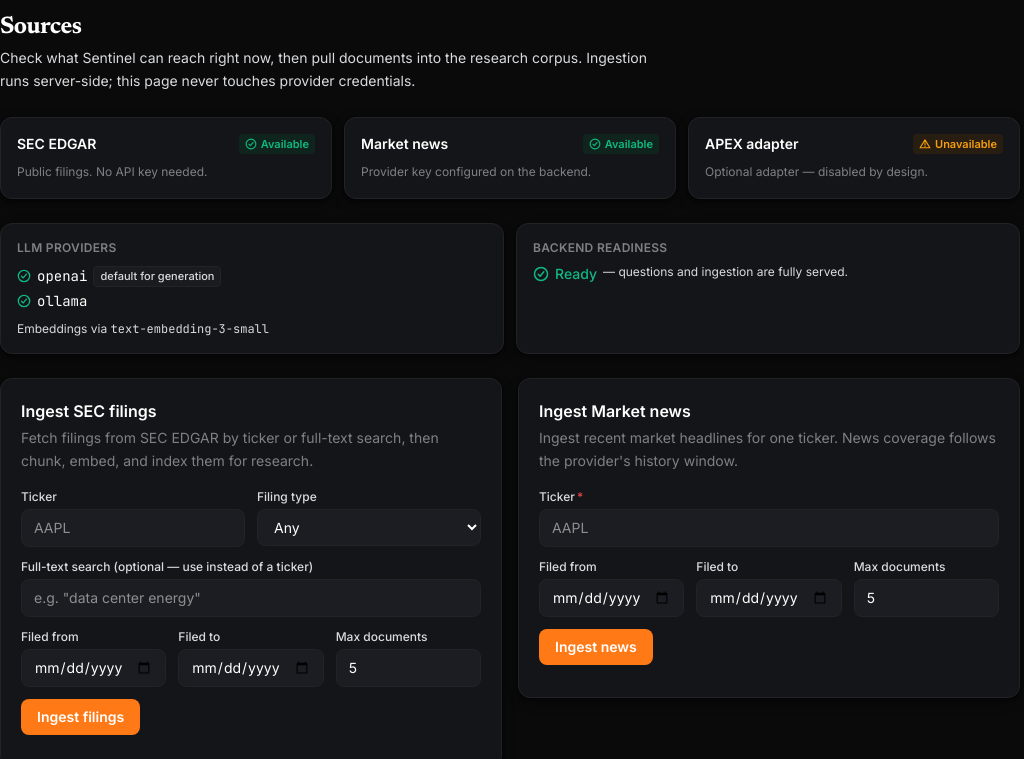
Scenario: news ingestion form › requires a ticker and posts a news-source request
Expected: the heading "Ingest Market news" is shown, top-left (539, 401), bottom-right (691, 421)
Click the button "Ingest news" at (596, 647), box top-left (539, 629), bottom-right (653, 665)
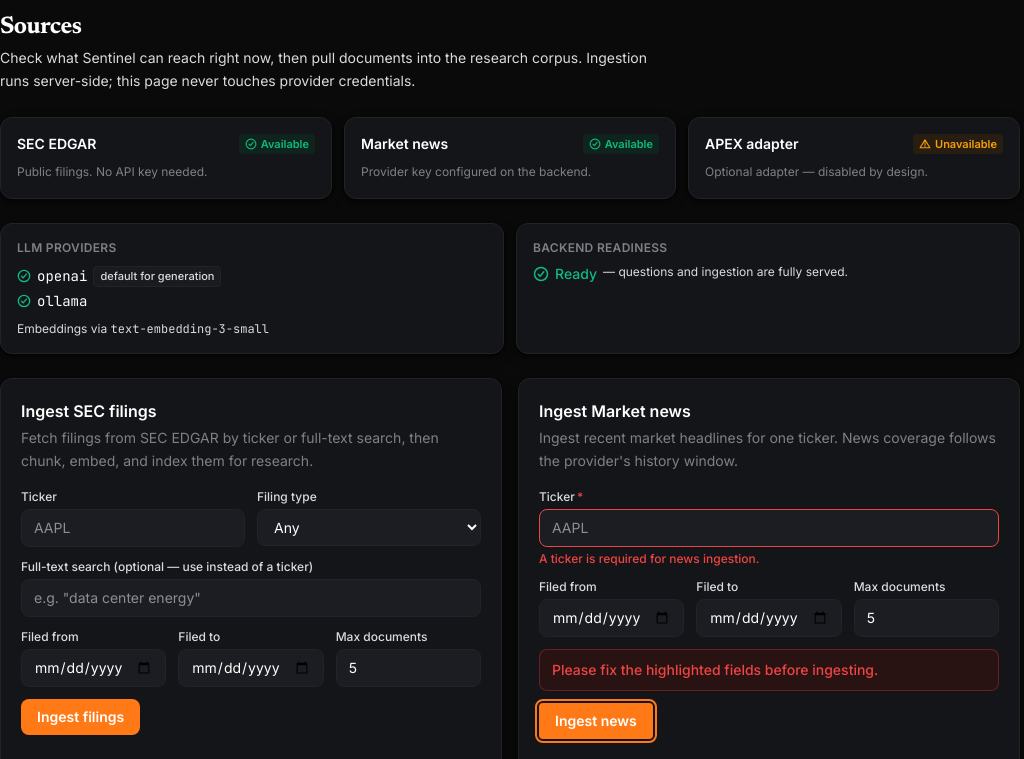
Expected: the text "A ticker is required for news ingestion." is shown, top-left (539, 551), bottom-right (759, 566)
Type "TSLA" into the field labelled "Ticker*" at (769, 528), box top-left (539, 509), bottom-right (999, 547)
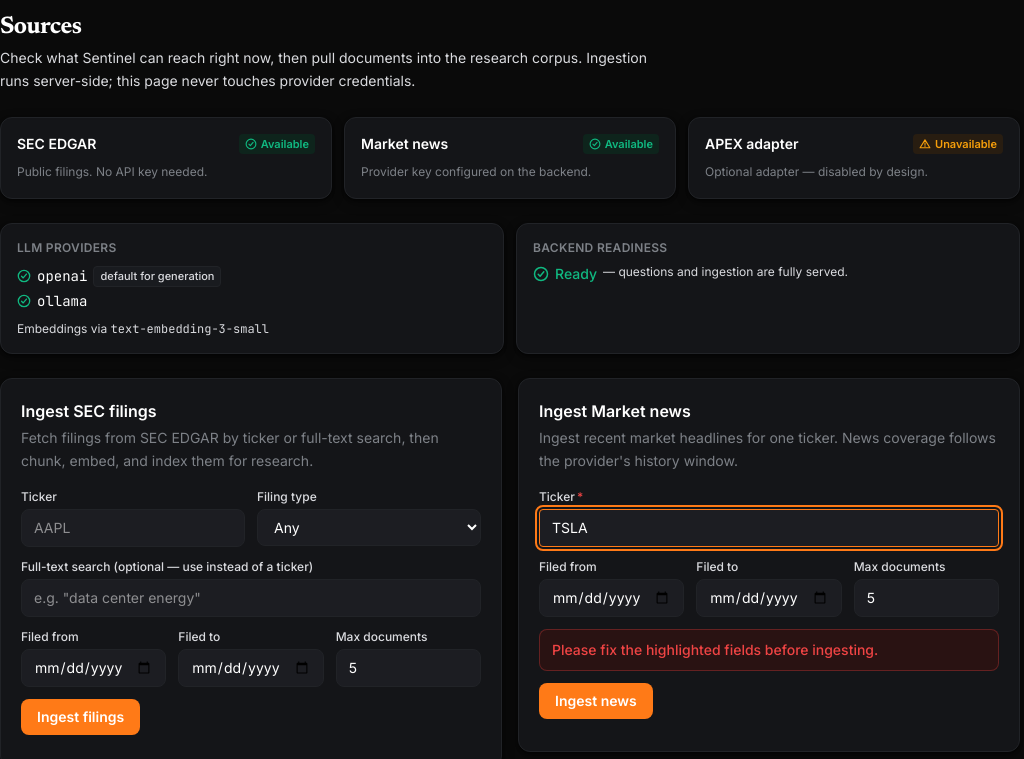
Type "2025-01-01" into the 1st date field labelled "Filed from" at (612, 598), box top-left (539, 579), bottom-right (684, 617)
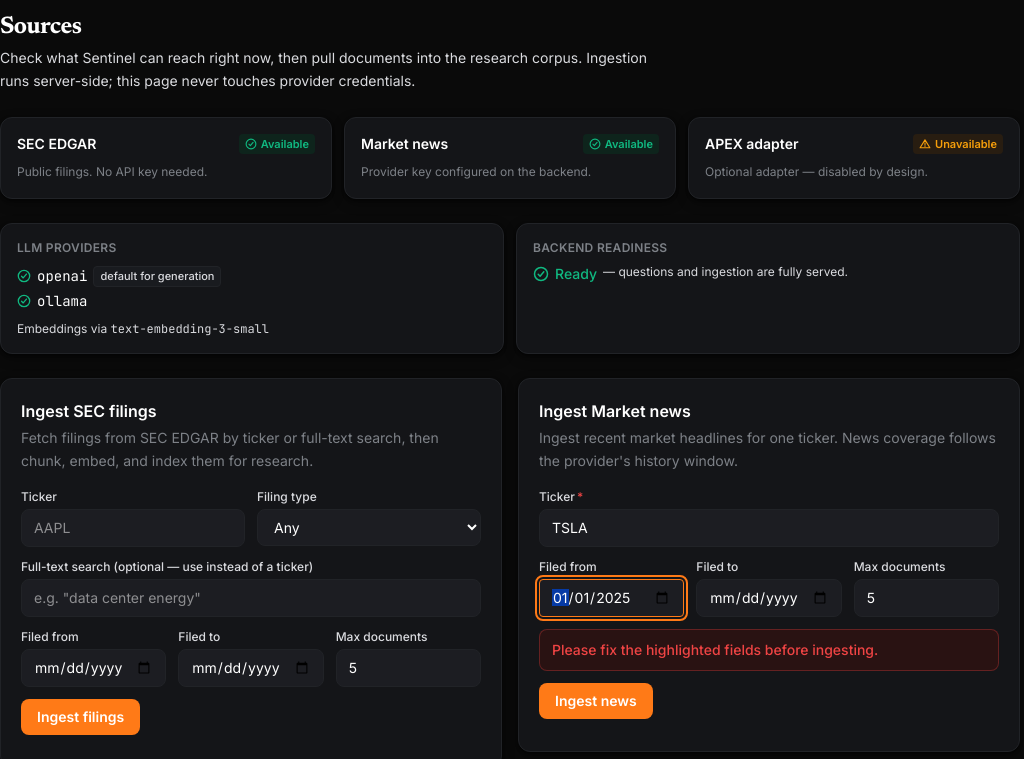
Type "2025-01-31" into the 1st date field labelled "Filed to" at (769, 598), box top-left (696, 579), bottom-right (842, 617)
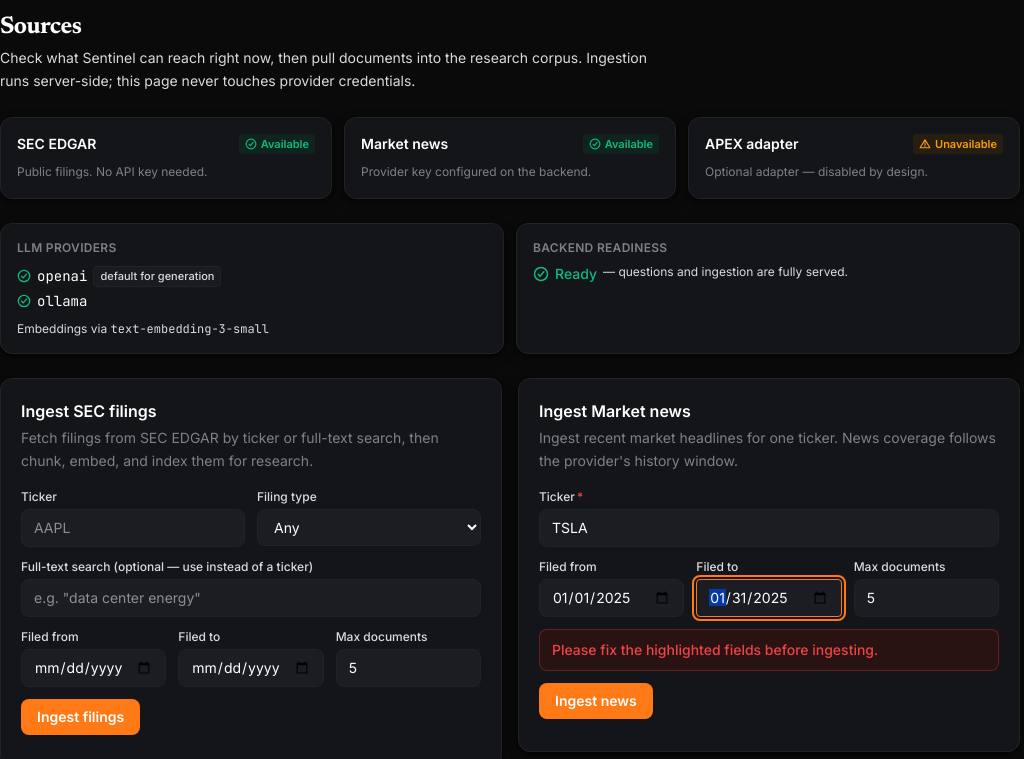
Click the button "Ingest news" at (596, 701), box top-left (539, 683), bottom-right (653, 719)
(page scrolled)
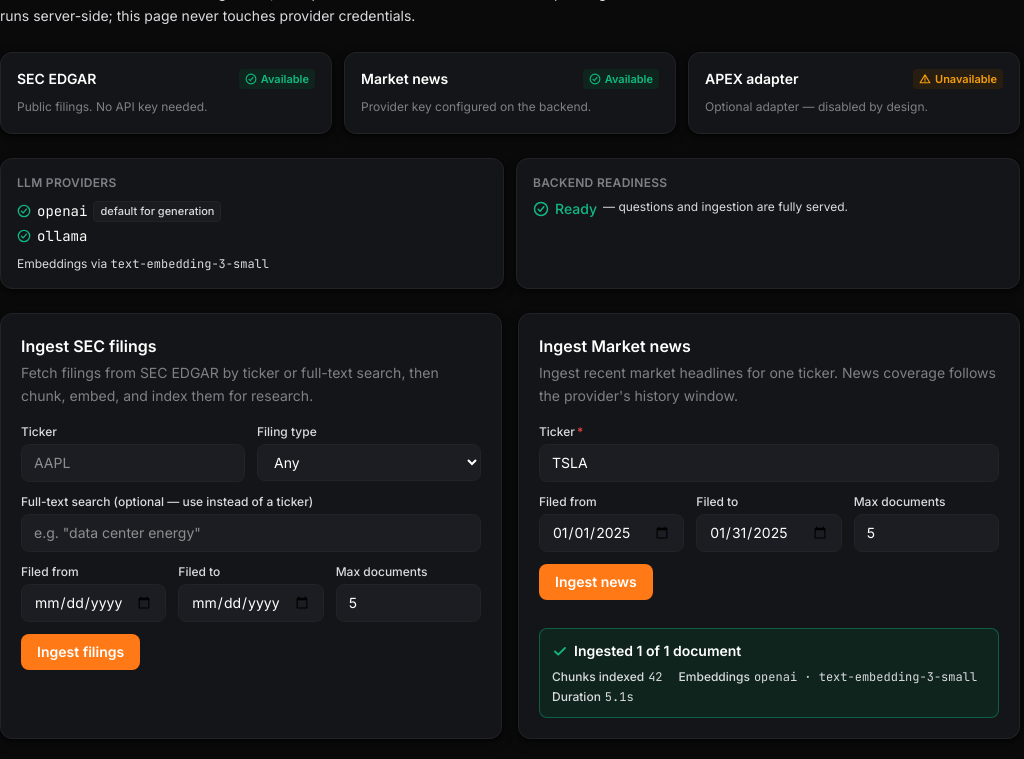
Expected: the element named "ingestion result" is shown, top-left (539, 628), bottom-right (999, 718)
